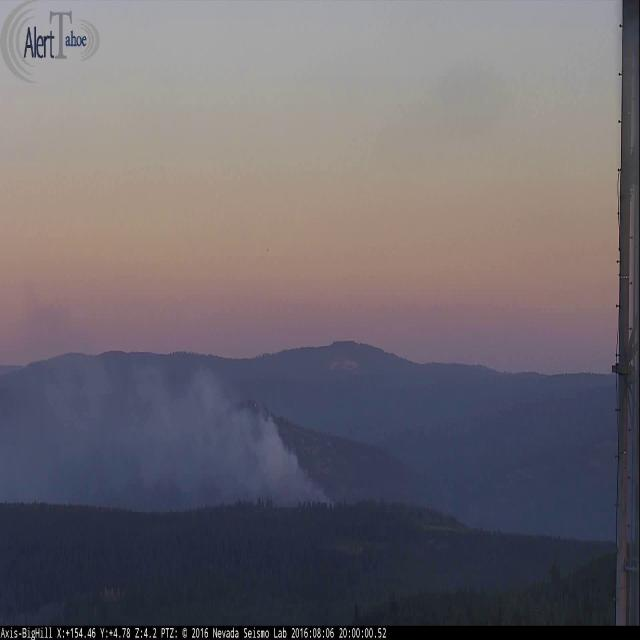smoke: (3, 268, 335, 512)
